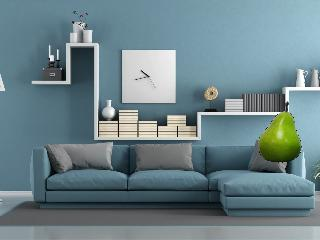pear: (252, 99, 308, 167)
